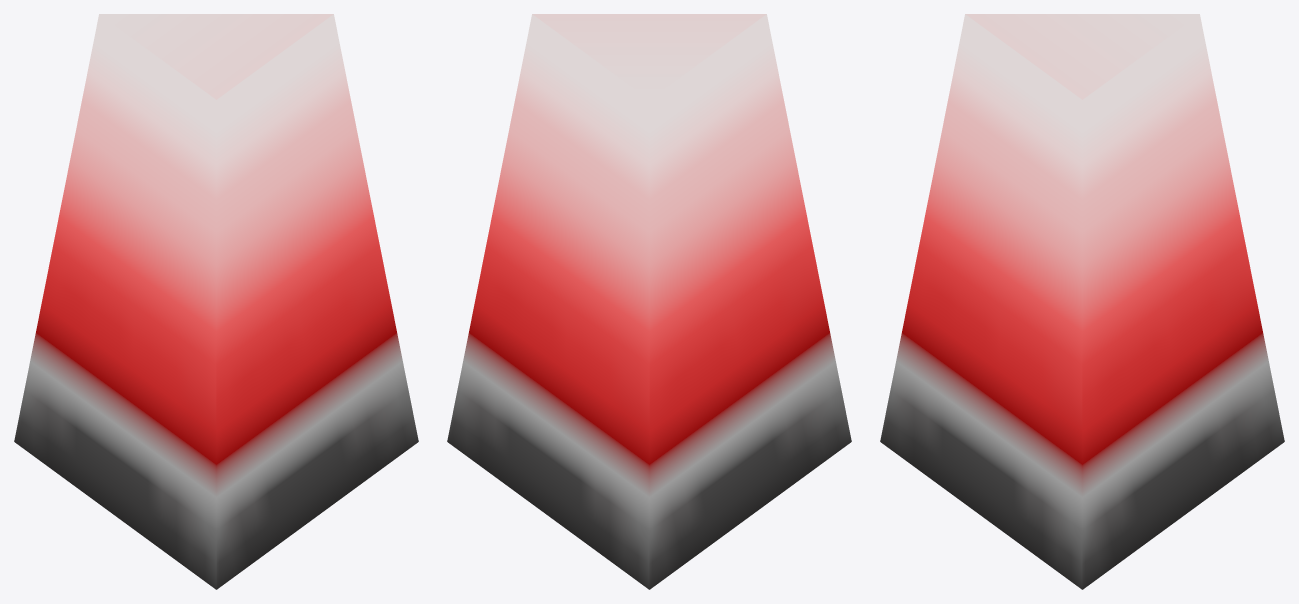
File: redbeaconlight.glb
3 renders of one model, left to right at view 1: azimuth 30°, elevation 25°; view 2: azimuth 150°, elevation 25°; view 3: azimuth 270°, elevation 25°, orthographic.
Visible parts, largest first — view 1: Redbeaconlight02; view 2: Redbeaconlight02; view 3: Redbeaconlight02.
Part boxes in pixels (left/top/right/bottom): Redbeaconlight02: left=14, top=14, right=418, bottom=589; Redbeaconlight02: left=447, top=14, right=851, bottom=589; Redbeaconlight02: left=880, top=14, right=1284, bottom=589.
Size of the model in its own units: 0.4029 by 0.569 by 0.4653.
Materials: 1 (1 with a texture image).
